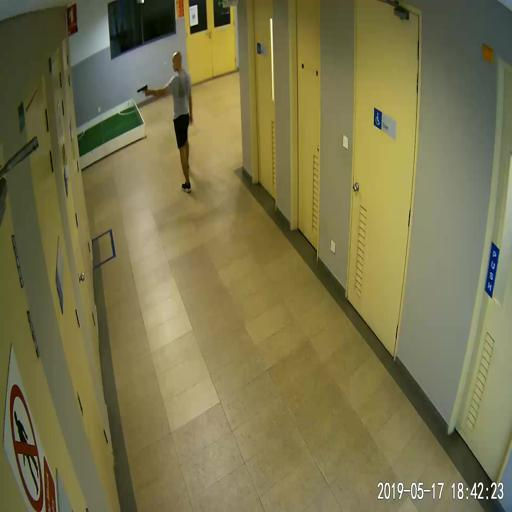pistol: (136, 84, 148, 96)
